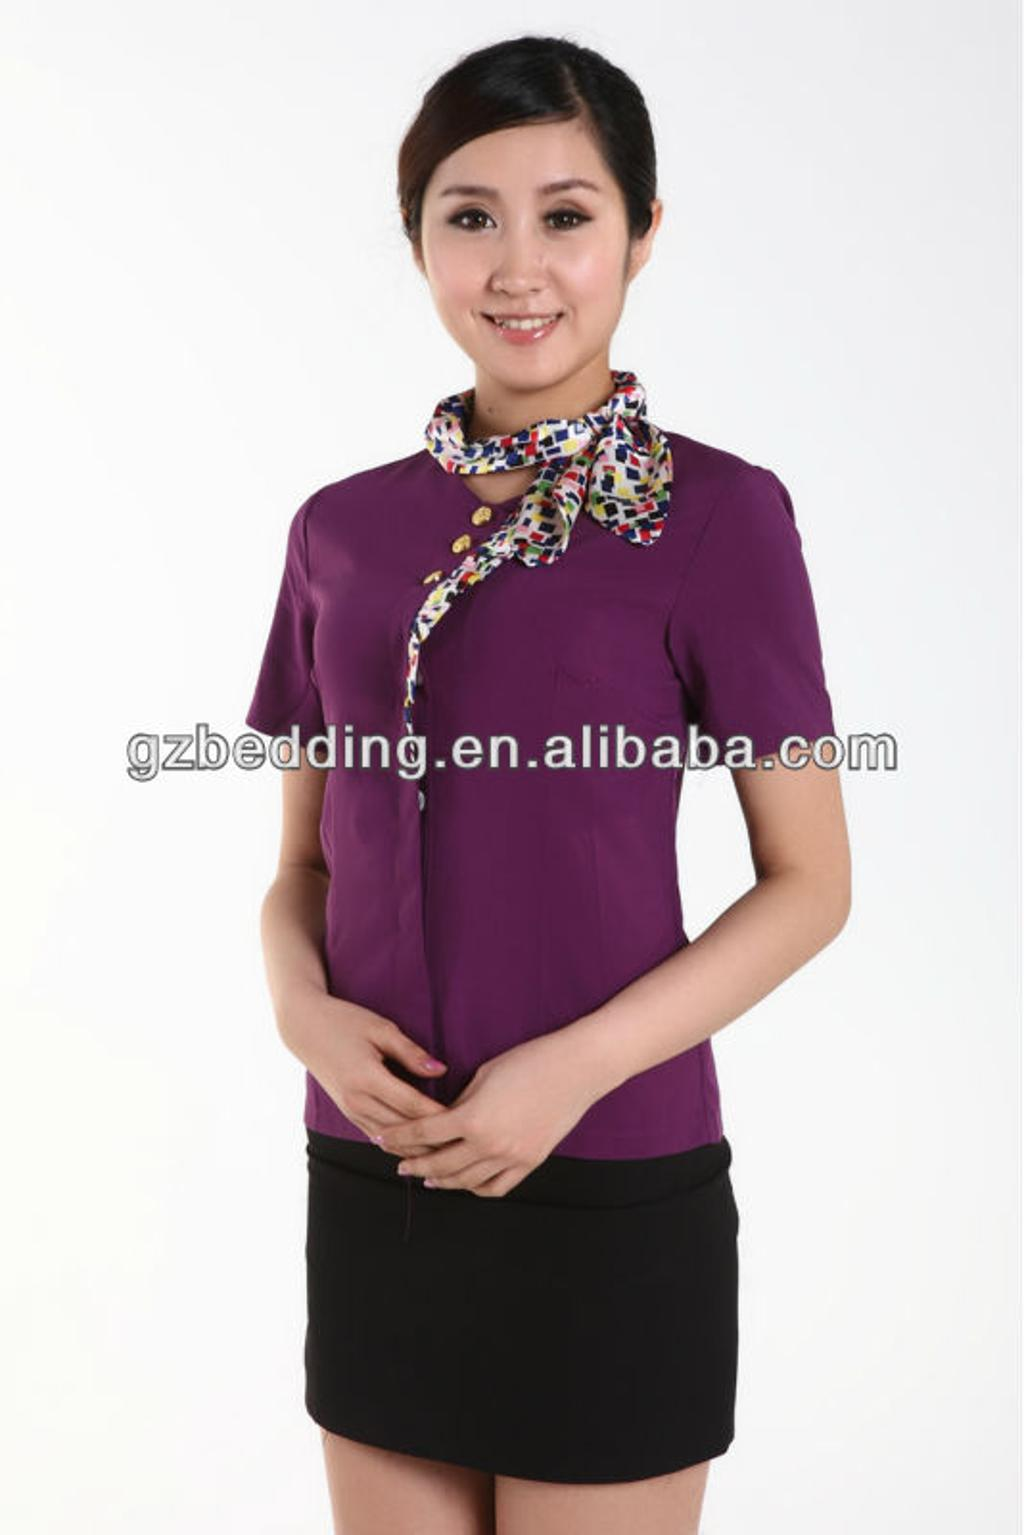face: (413, 126, 632, 381)
